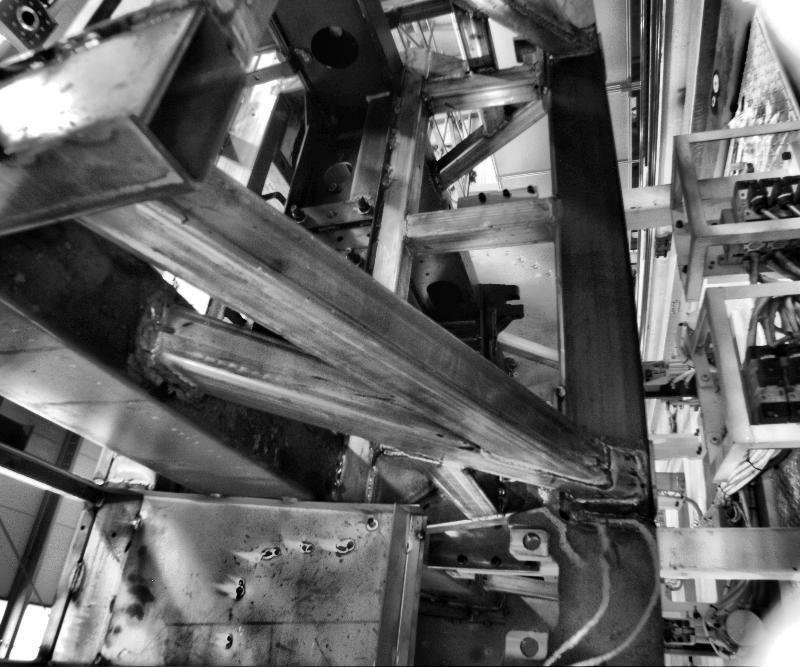bolt: (350, 193, 368, 214), (287, 202, 305, 221), (341, 246, 359, 265)
bracket: (475, 278, 525, 363)
hole: (517, 637, 537, 656), (519, 533, 540, 550), (150, 321, 172, 336), (108, 530, 116, 539), (334, 234, 342, 242), (530, 82, 538, 89), (78, 522, 84, 531), (364, 232, 368, 236), (423, 271, 427, 275), (419, 261, 423, 265)
welding: (142, 300, 170, 363), (564, 492, 650, 506), (636, 452, 648, 503), (66, 559, 84, 593), (601, 440, 611, 489), (546, 197, 560, 222), (378, 162, 392, 183), (202, 490, 222, 503), (399, 213, 407, 241), (386, 127, 397, 146), (275, 495, 299, 503), (392, 96, 400, 114), (132, 517, 140, 528)
